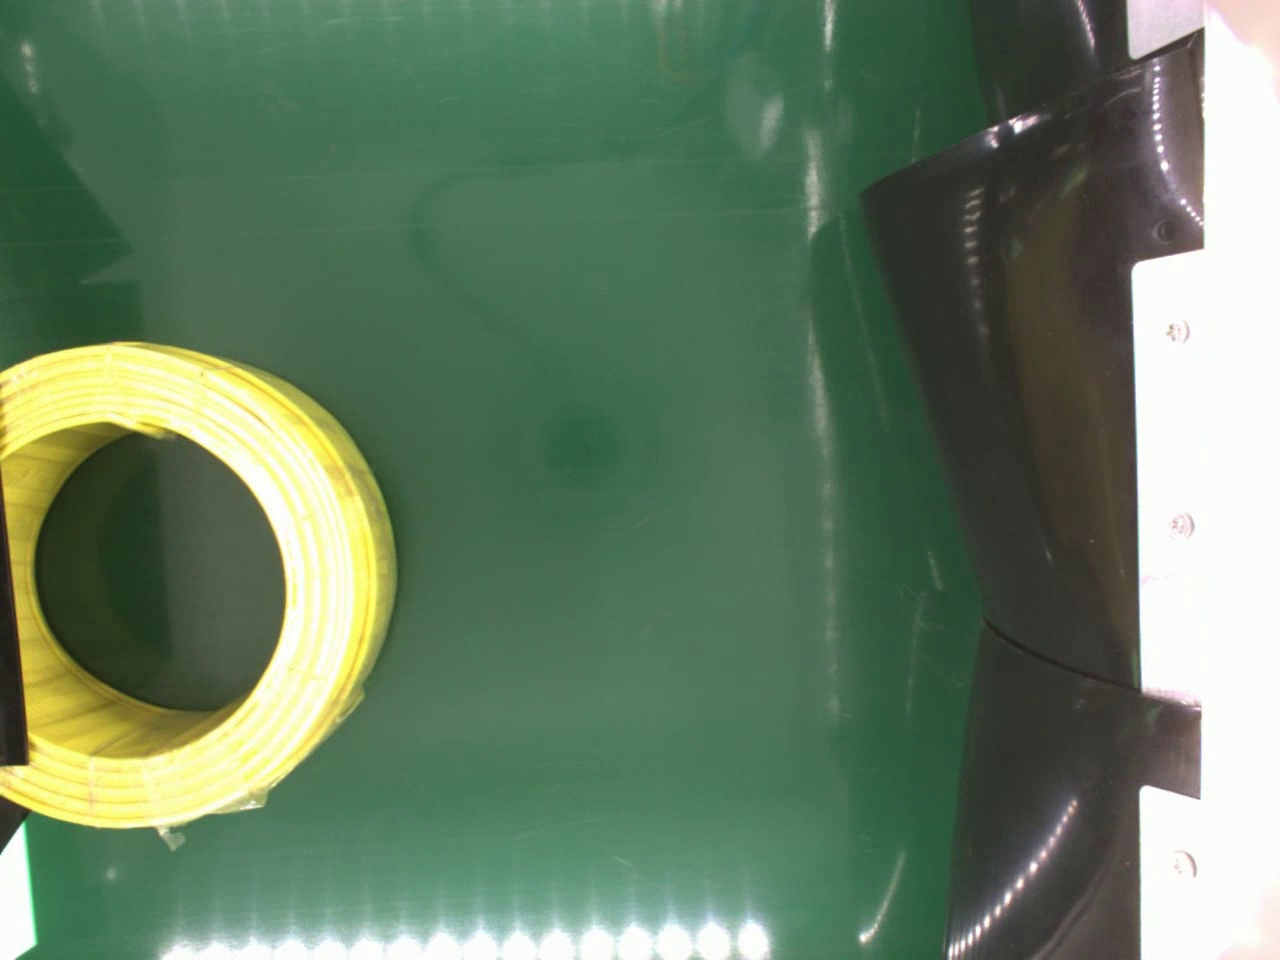yellow: (0, 339, 404, 829)
